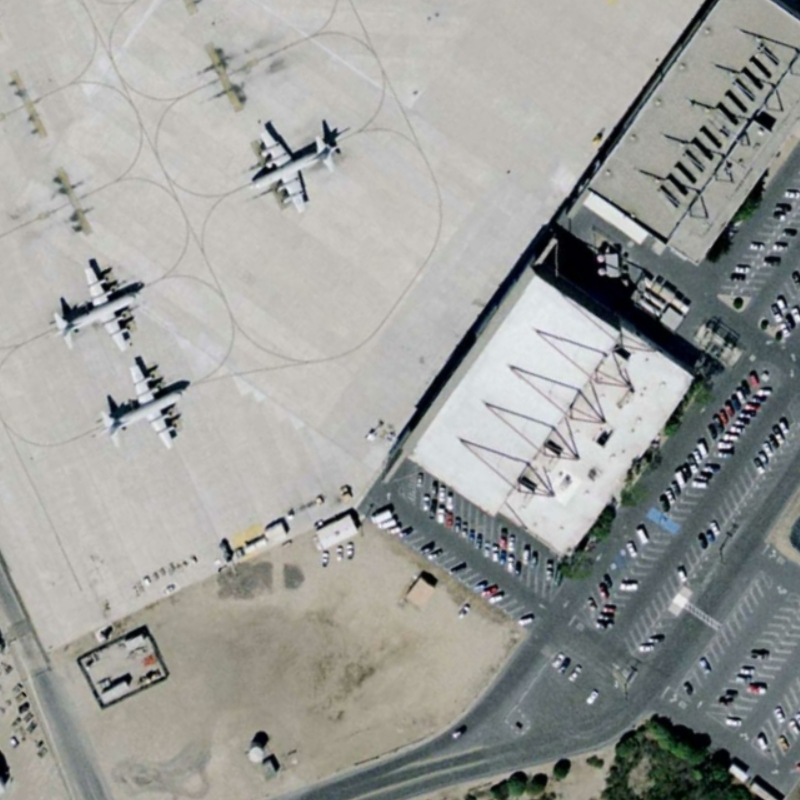A9: (94, 353, 192, 456), (242, 119, 342, 216), (47, 262, 143, 354)
